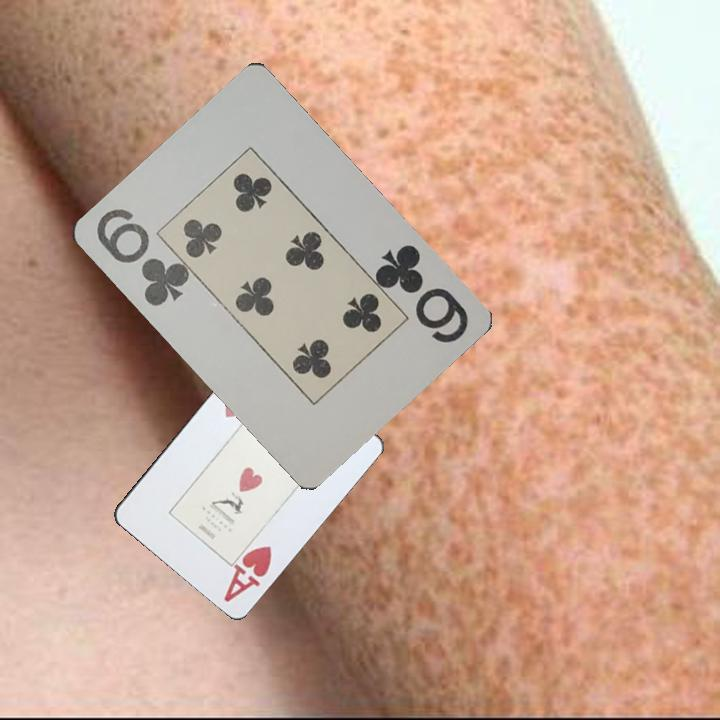6c: (370, 240, 471, 346), (92, 204, 191, 310)
Ah: (220, 542, 275, 605)
